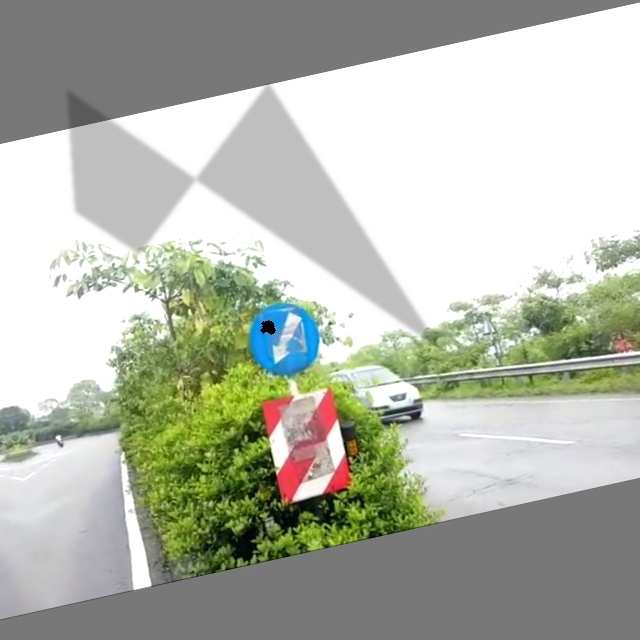Compulsory_Keep_Left: (234, 287, 336, 388)
